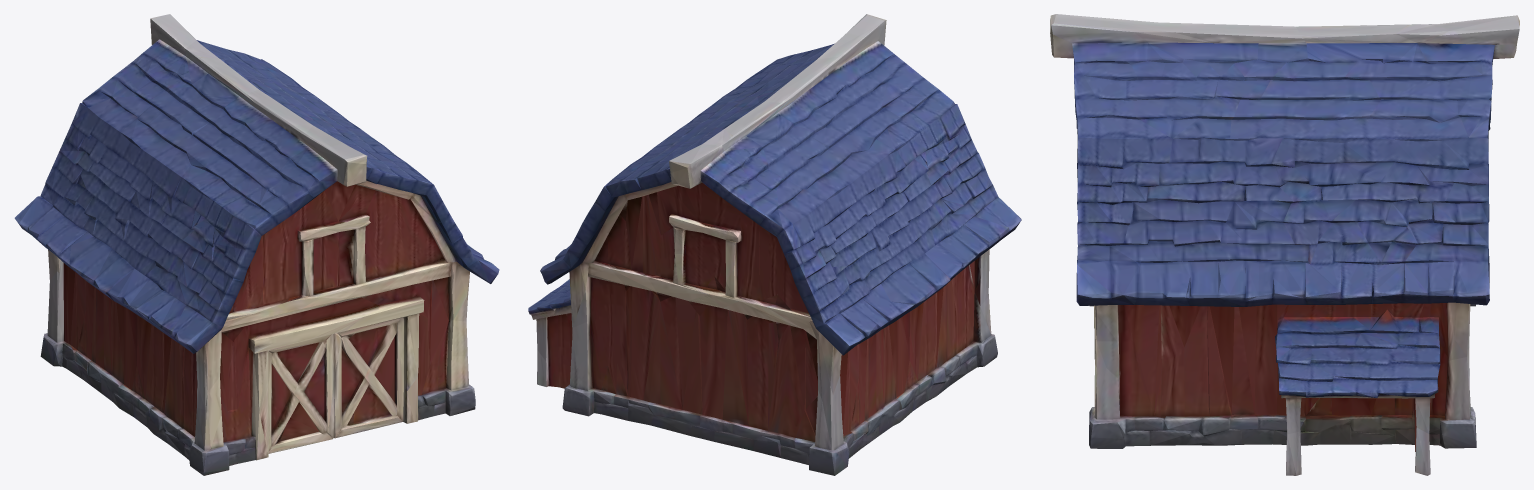
File: oc_barn_red.glb
3 renders of one model, left to right at view 1: azimuth 30°, elevation 25°; view 2: azimuth 150°, elevation 25°; view 3: azimuth 270°, elevation 25°, orthographic. The views are drawn at different scales.
Visible parts, largest first — view 1: W_barn_red; view 2: W_barn_red; view 3: W_barn_red.
Boxes of the visible parts, x1,y1,x2,y2 form: W_barn_red: (14,14,499,475); W_barn_red: (528,14,1021,475); W_barn_red: (1050,14,1519,475).
Size of the model in its own units: 15.96 by 12.79 by 15.46.
Materials: 1 (1 with a texture image).
